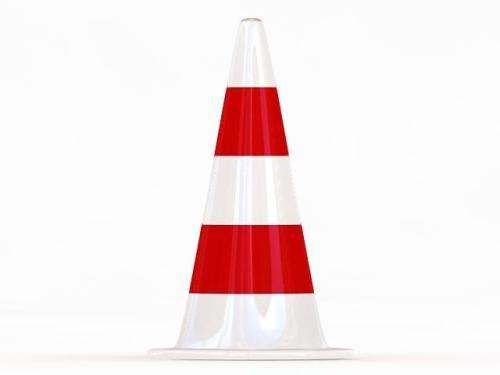cone_barrel: (173, 20, 331, 360)
